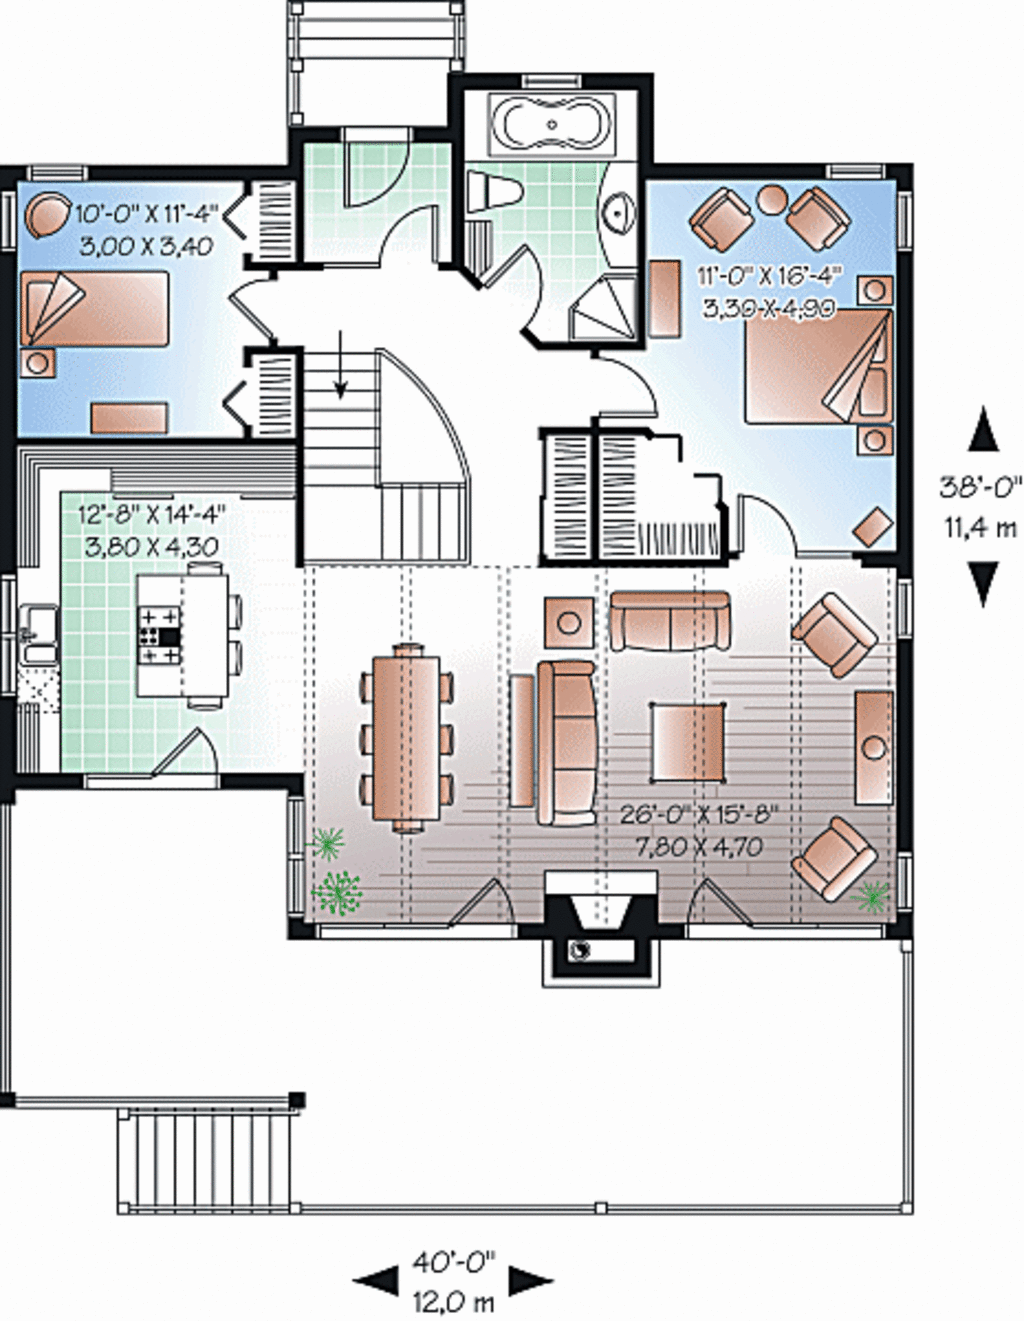bed: (731, 292, 899, 432), (19, 259, 175, 352)
dining_table: (345, 636, 473, 846)
door: (471, 240, 556, 336), (719, 486, 823, 564), (339, 124, 417, 212), (583, 338, 661, 418), (225, 272, 293, 360), (435, 878, 526, 942), (369, 201, 445, 270), (147, 730, 235, 790), (681, 882, 765, 938)
kitchen_bar: (131, 554, 261, 714)
large_sink: (457, 158, 545, 228)
large_sofa: (607, 578, 750, 664), (535, 656, 602, 838)
small_sink: (589, 176, 647, 268)
small_sofa: (785, 587, 875, 698), (789, 810, 877, 900)
stairs: (311, 342, 487, 568), (97, 1094, 333, 1220), (291, 4, 457, 134)
tub: (461, 88, 643, 154)
twin_sink: (13, 600, 71, 680)
window: (27, 150, 99, 185), (825, 154, 885, 184)
